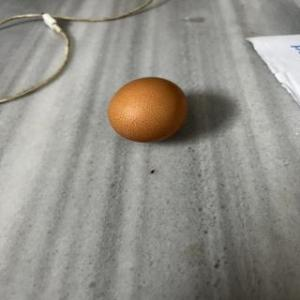egg: (104, 76, 192, 144)
